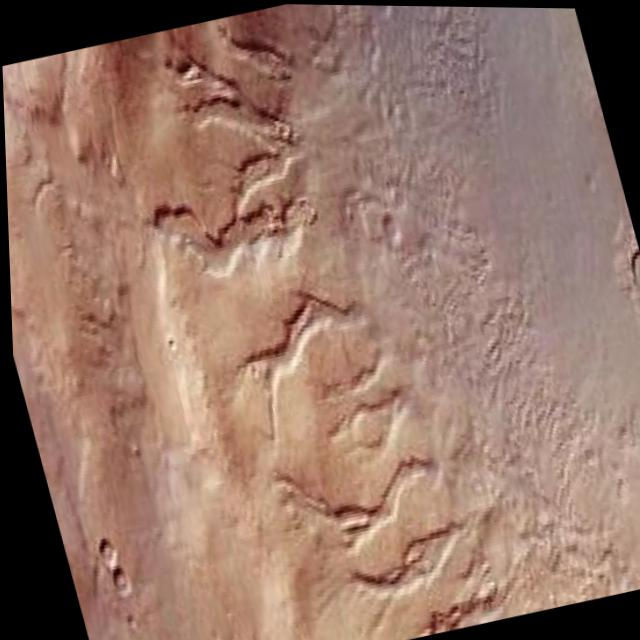Crater: (49, 1, 640, 640)
